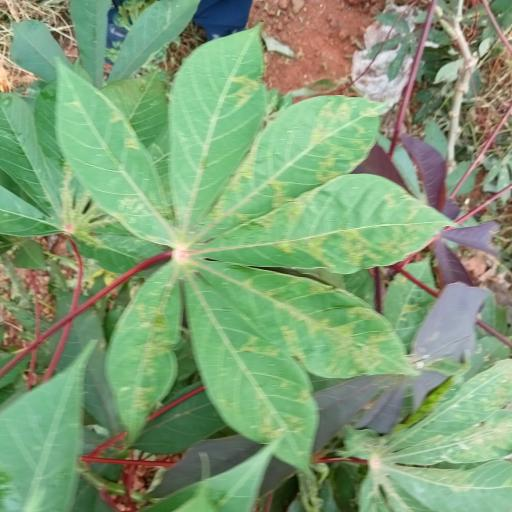Cassava_Healthy: (58, 33, 449, 452)
